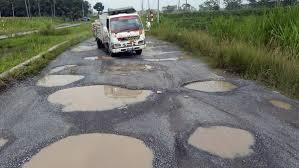Pothole: (39, 83, 171, 126), (22, 136, 156, 168), (182, 109, 249, 167), (173, 71, 256, 103), (32, 59, 89, 92), (262, 80, 299, 122), (101, 57, 171, 77), (144, 41, 191, 63), (73, 44, 107, 65), (0, 122, 12, 159)
